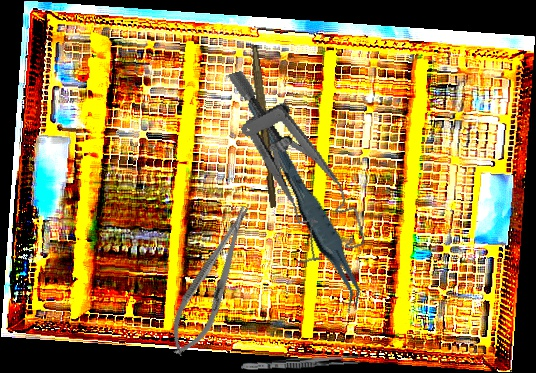Dressing Forceps: (240, 353, 361, 373)
Needle Holder: (159, 199, 265, 363)
Scalpel Handle: (246, 45, 281, 208)
Speculum: (225, 50, 368, 271)
Tissue Forceps: (245, 88, 368, 321)
